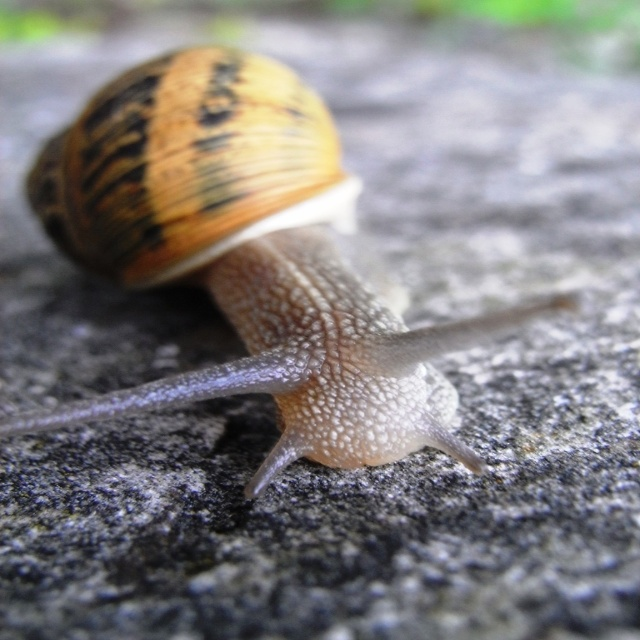Snail: (0, 41, 589, 504)
